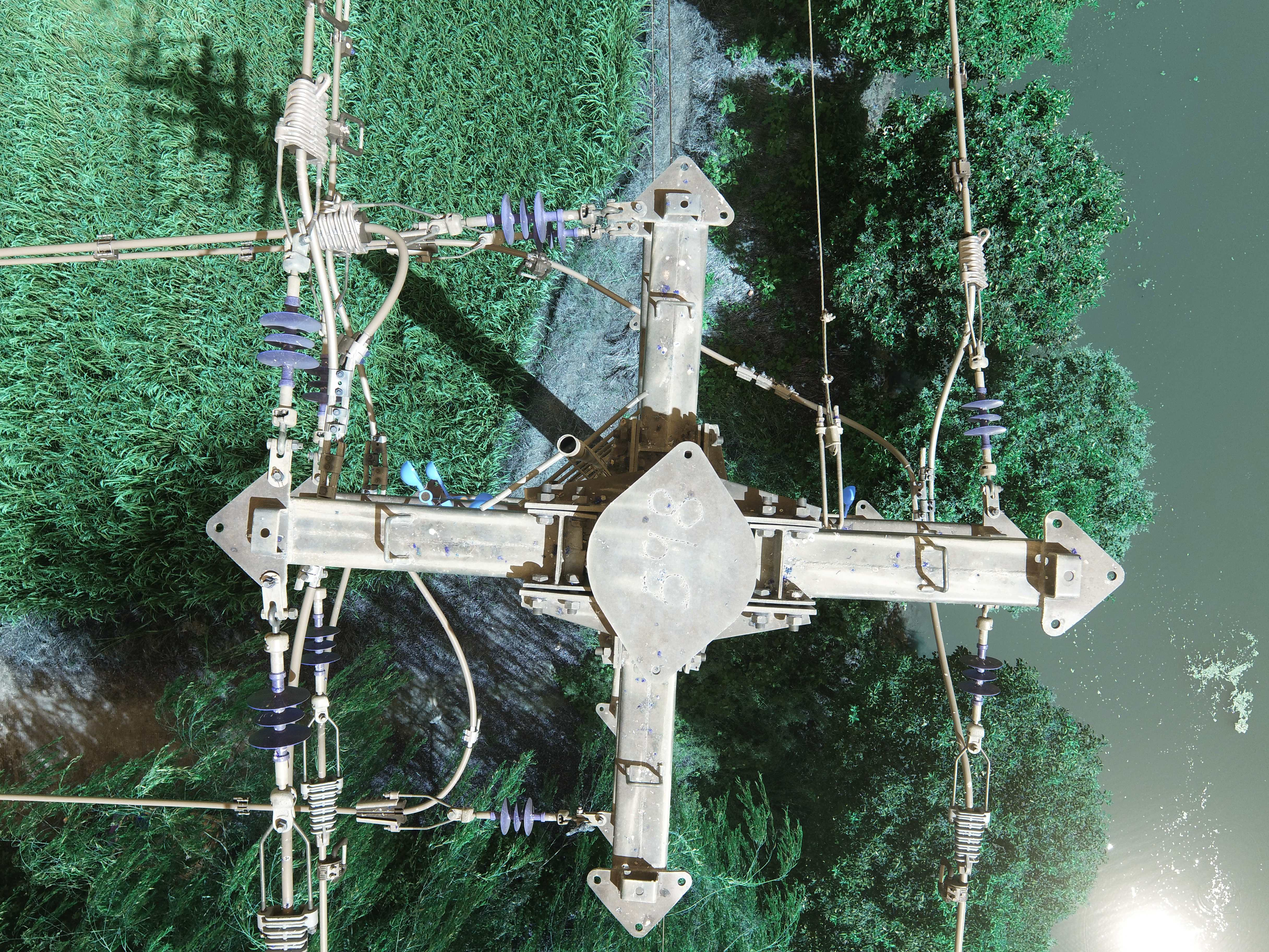severe_soiling_no_discharge_whole: (485, 189, 563, 242), (527, 217, 579, 254)
